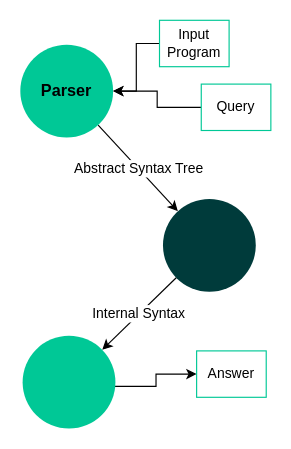
Some shapes in this 291 by 449 pixel diagram are drawn without their labels. Each missing label, with the centre of its shape:
"Engine" belongs at pixel 68 381.
"Translator" belongs at pixel 208 244.
